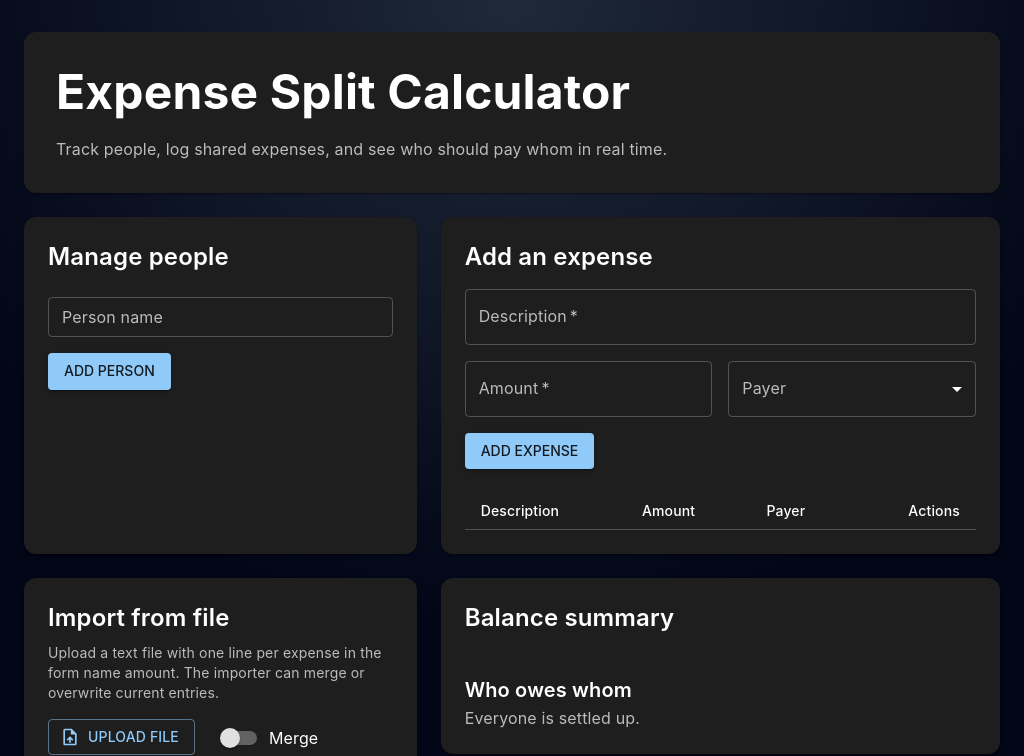
Test case: App › adds a person and shows it in the list
Type "Diana" into the field labelled "Person name". click: (220, 317)
box: [48,297,393,337]
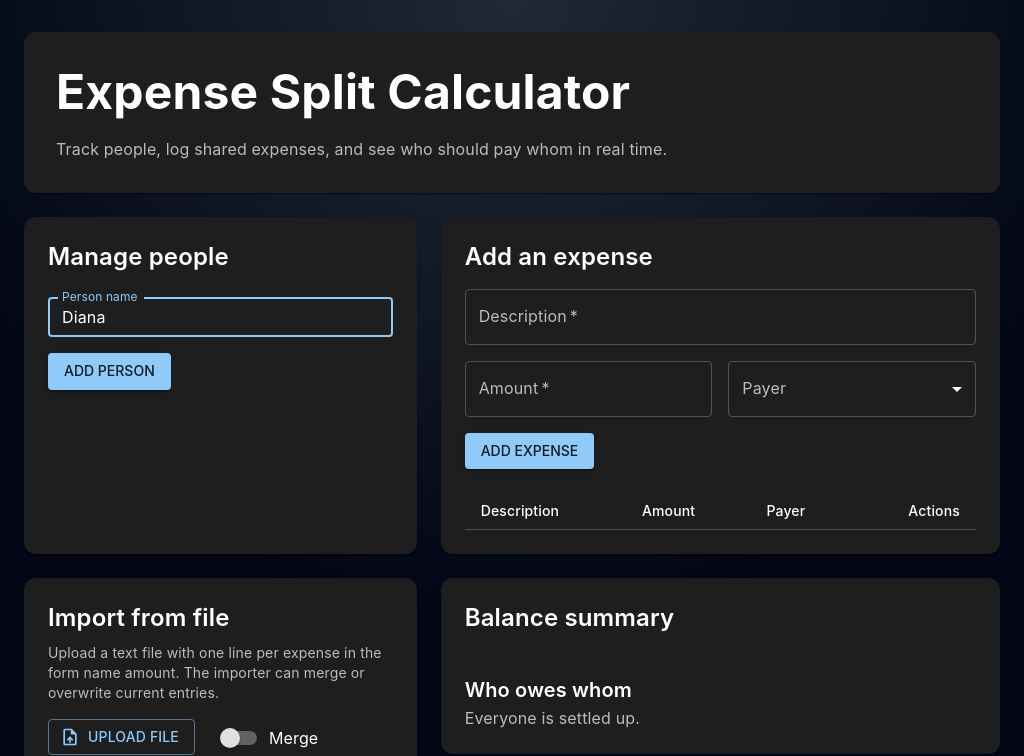
Click the button "Add person". click: (109, 371)
box: [48,353,171,390]
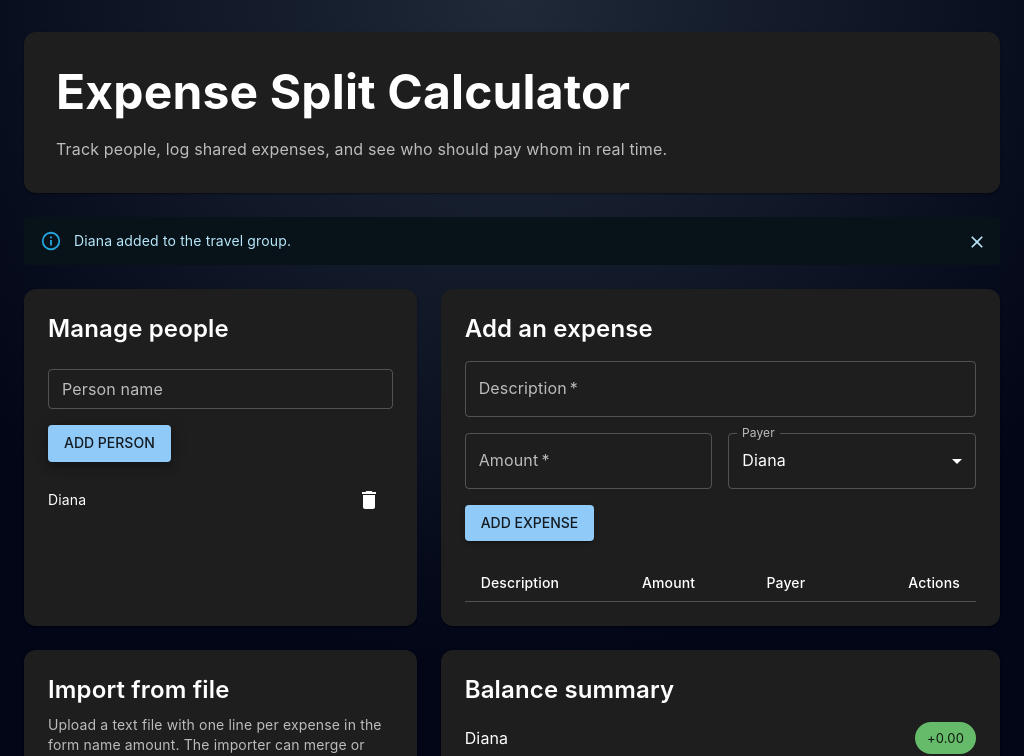
Expected: the text "Diana" below "Person name" is shown, [48,491,86,508]
